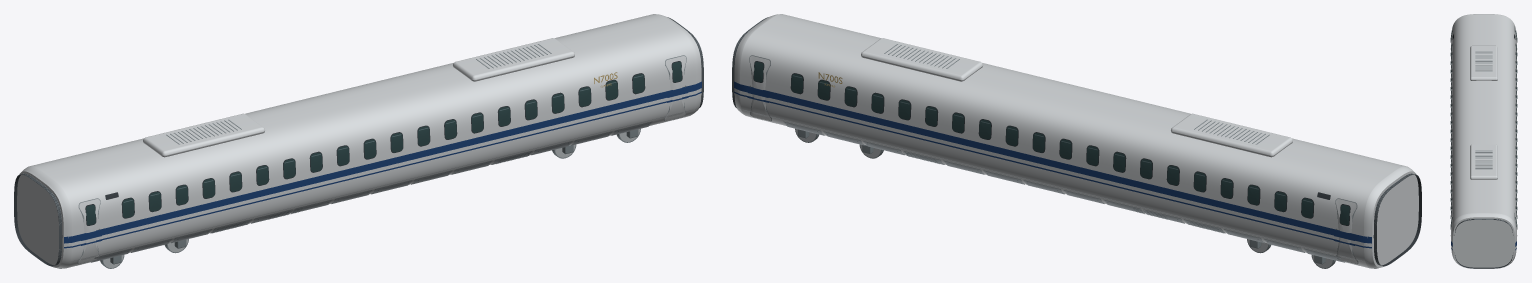
File: n700s-middle.glb
3 renders of one model, left to right at view 1: azimuth 30°, elevation 25°; view 2: azimuth 150°, elevation 25°; view 3: azimuth 270°, elevation 25°, orthographic. The views are drawn at different scales.
Visible parts, largest first — view 1: Pearl white enamel, Deep blue livery, Passenger tinted glazing, Underfloor aluminum fairing, Glazing gaskets and bellows, Panel recess, Bogie steel and pantograph, Machined wheel rim; view 2: Pearl white enamel, Deep blue livery, Passenger tinted glazing, Underfloor aluminum fairing, Glazing gaskets and bellows, Panel recess, Bogie steel and pantograph, Machined wheel rim; view 3: Pearl white enamel, Panel recess, Glazing gaskets and bellows, Passenger tinted glazing, Glazing upper reflection.
Part boxes in pixels (x1,y1,x2,y2): Pearl white enamel: (17,14,701,268); Deep blue livery: (64,81,701,248); Passenger tinted glazing: (86,61,682,225); Underfloor aluminum fairing: (57,108,696,268); Glazing gaskets and bellows: (14,17,703,266); Panel recess: (18,17,703,266); Bogie steel and pantograph: (97,85,686,268); Machined wheel rim: (103,129,640,267); Pearl white enamel: (734,14,1418,268); Deep blue livery: (734,81,1371,248); Passenger tinted glazing: (753,61,1349,225); Underfloor aluminum fairing: (739,108,1378,268); Glazing gaskets and bellows: (732,17,1421,266); Panel recess: (732,17,1417,266); Bogie steel and pantograph: (749,85,1338,268); Machined wheel rim: (795,129,1332,267); Pearl white enamel: (1450,14,1517,268); Panel recess: (1451,26,1516,268); Glazing gaskets and bellows: (1450,30,1517,268); Passenger tinted glazing: (1450,31,1517,227); Glazing upper reflection: (1451,45,1516,210).
Size of the model in its own units: 24.97 by 3.78 by 3.44.
